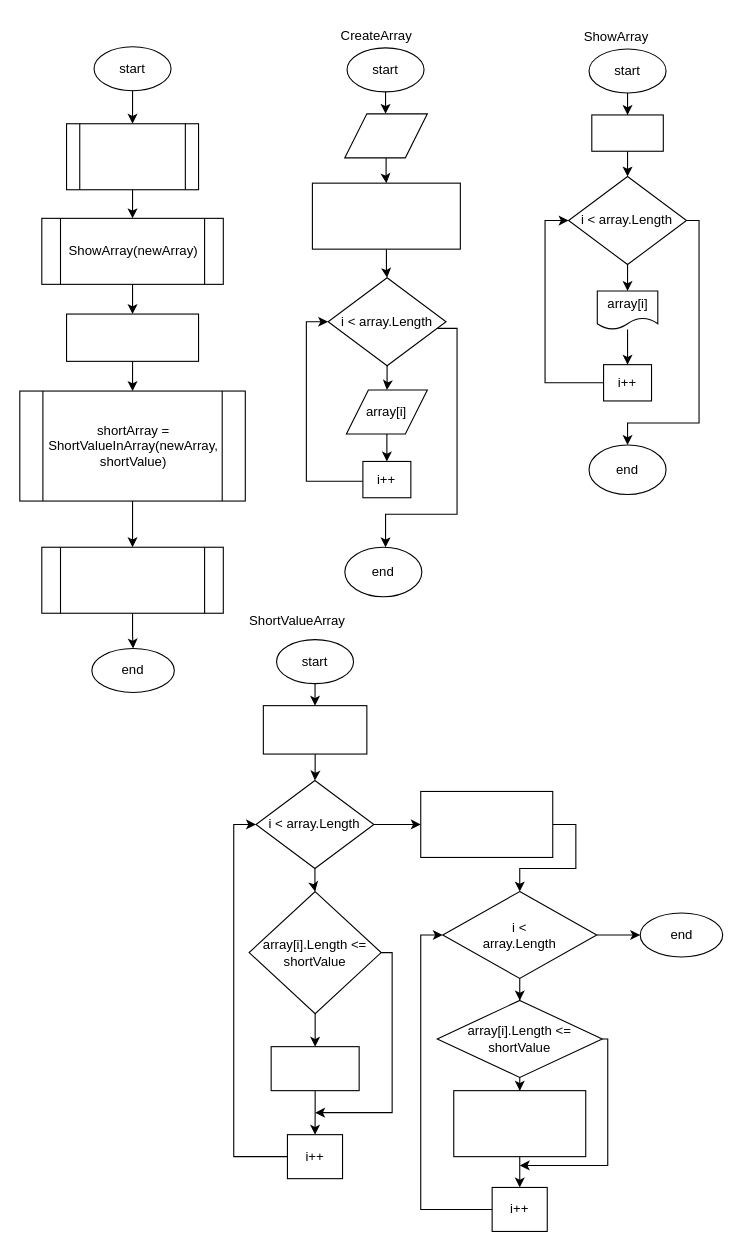
Some shapes in this 741 by 1251 pixel diagram are drawn without their labels. Here are the shapes that lost their labels. From the top down, the centre of each, then its label:
At point 385,135: "size".
At point 627,132: "i = 0".
At point 132,156: "newArray = CreateArray()".
At point 385,215: "arra = new string[size] i = 0;".
At point 132,337: "shortValue = 3".
At point 132,579: "ShowArray(shortArray)".
At point 314,729: "count = 0 i = 0".
At point 486,823: "shortArray = new string[count] indexShort = 0".
At point 314,1068: "count++".
At point 519,1123: "shortArray[indexShort] = array[i] indexShort++".
